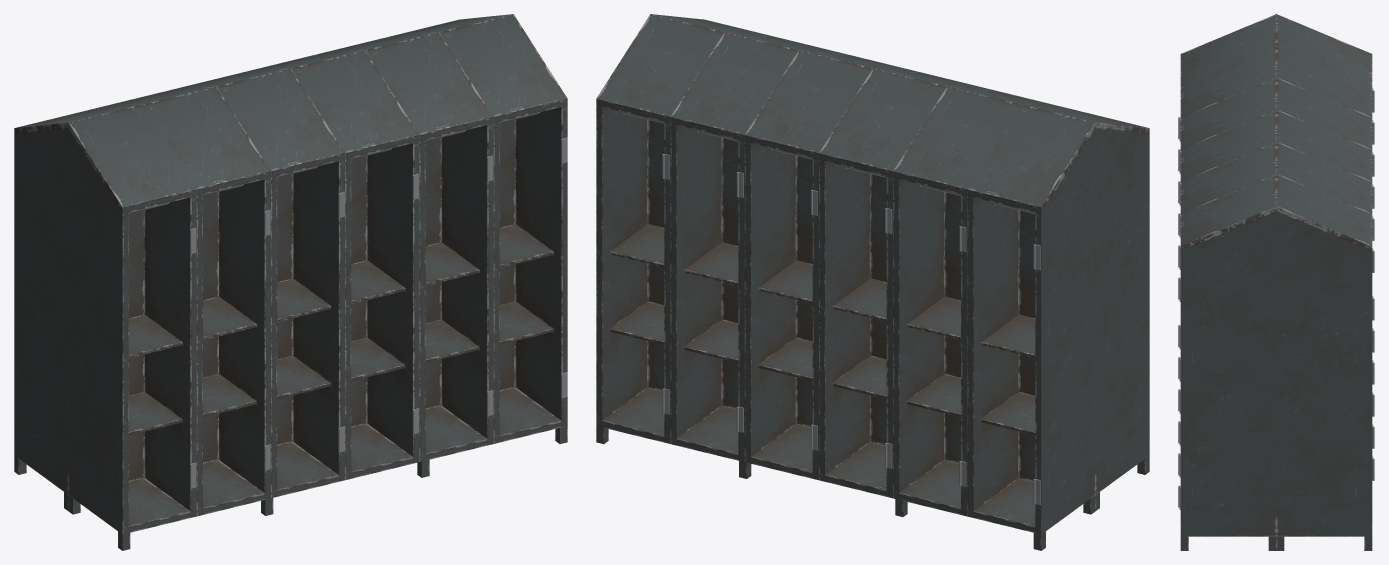
The model's file is SM_Locker_02_D.fbx.
3 views of the same model, side by side, from view 1: azimuth 30°, elevation 25°; view 2: azimuth 150°, elevation 25°; view 3: azimuth 270°, elevation 25° (orthographic). The views are drawn at different scales.
Parts seen in each view (by area): view 1: SM_Locker_02_D; view 2: SM_Locker_02_D; view 3: SM_Locker_02_D.
Part boxes in pixels (x1,y1,x2,y2): SM_Locker_02_D: (14, 14, 567, 550); SM_Locker_02_D: (596, 14, 1149, 550); SM_Locker_02_D: (1178, 14, 1374, 550).
Bounding box in the file's own units: 313 × 135 × 261.
Materials: 1 (1 with a texture image).
